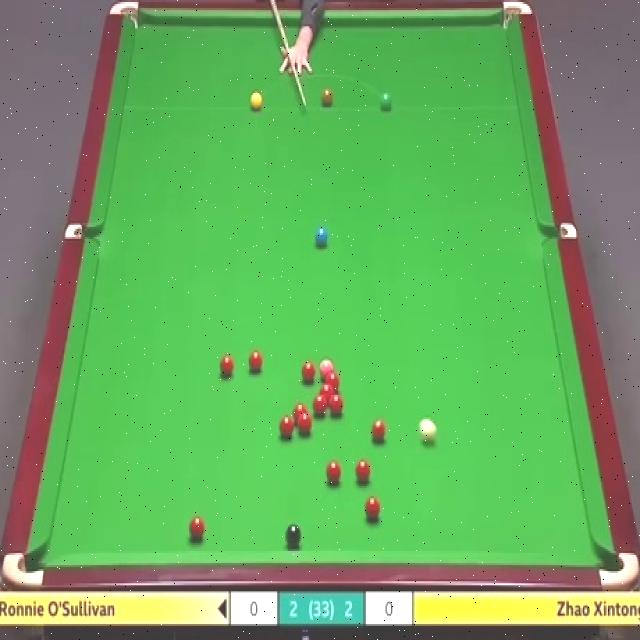black-ball: (284, 520, 302, 545)
blue-ball: (314, 228, 328, 245)
brown-ball: (322, 88, 333, 106)
green-ball: (378, 90, 394, 112)
pink-ball: (319, 358, 334, 379)
red-ball: (371, 417, 388, 445), (354, 457, 371, 483), (325, 458, 341, 485), (323, 371, 340, 394), (248, 347, 264, 371), (365, 497, 381, 521), (298, 362, 316, 383), (279, 414, 294, 439), (189, 518, 205, 541), (220, 356, 236, 376), (329, 394, 344, 414), (293, 403, 307, 423), (299, 413, 312, 433), (313, 394, 326, 414)
yellow-ball: (250, 91, 263, 112)
